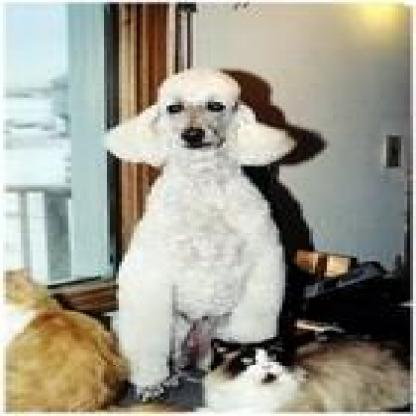standard_poodle: (98, 64, 294, 404)
